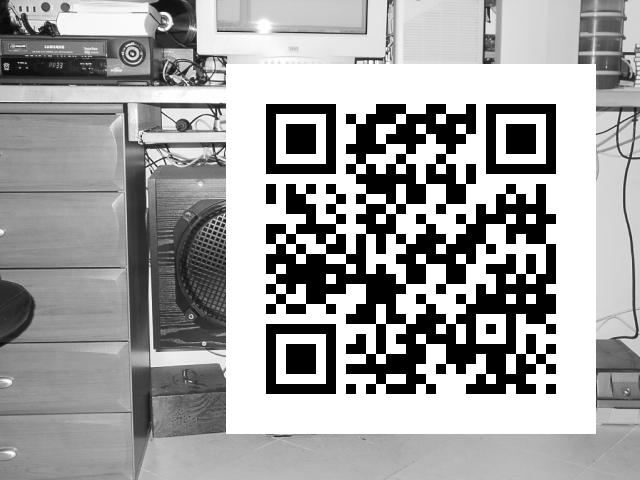qr_code: (228, 69, 595, 433)
